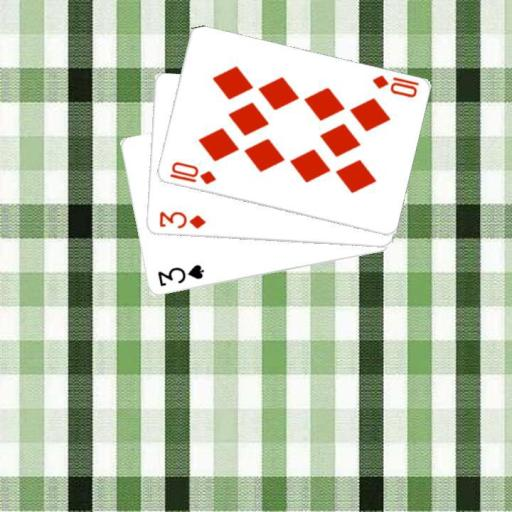10D: (369, 72, 421, 99), (166, 159, 217, 186)
3D: (156, 209, 207, 231)
3S: (155, 262, 206, 289)
